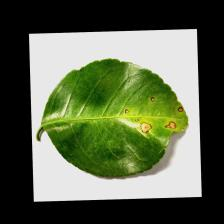canker: (119, 80, 178, 160)
